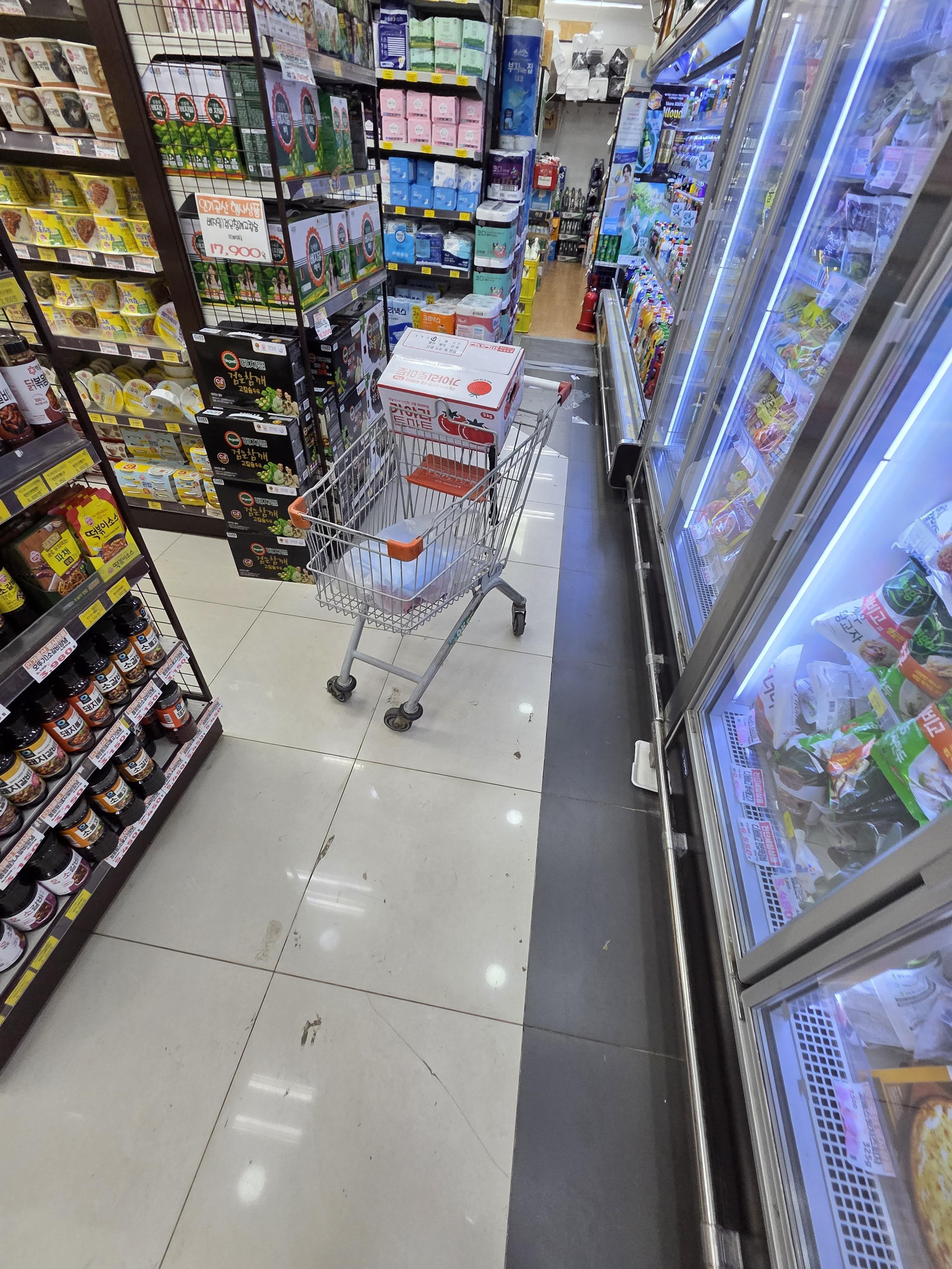fully_cart: (281, 317, 585, 731)
